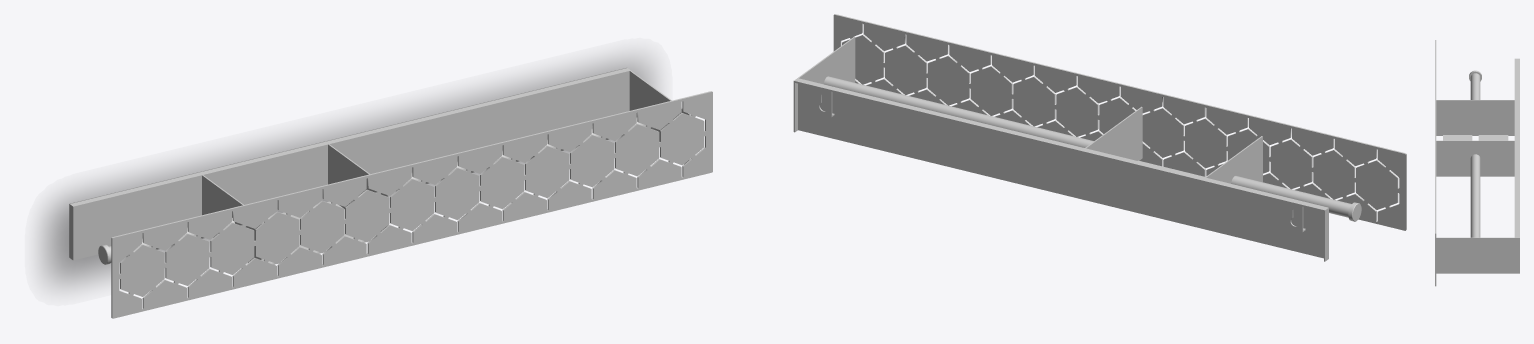
The model's file is bee-trio.39276a657b.ar.glb.
3 views of the same model, side by side, from view 1: azimuth 30°, elevation 25°; view 2: azimuth 150°, elevation 25°; view 3: azimuth 270°, elevation 25° (orthographic). The views are drawn at different scales.
Parts seen in each view (by area): view 1: NAUO1, object 2; view 2: NAUO1; view 3: NAUO1.
Boxes of the visible parts, x1,y1,x2,y2 form: NAUO1: (69, 67, 712, 318); object 2: (41, 57, 655, 286); NAUO1: (793, 14, 1406, 261); NAUO1: (1435, 40, 1519, 286).
Bounding box in the file's own units: 0.78 × 0.17 × 0.13.
2 materials, 1 textured.
